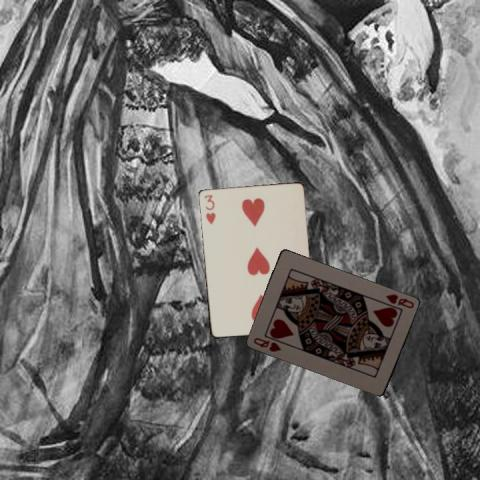3h: (201, 191, 217, 226)
Qh: (251, 334, 283, 353), (383, 291, 416, 309)
